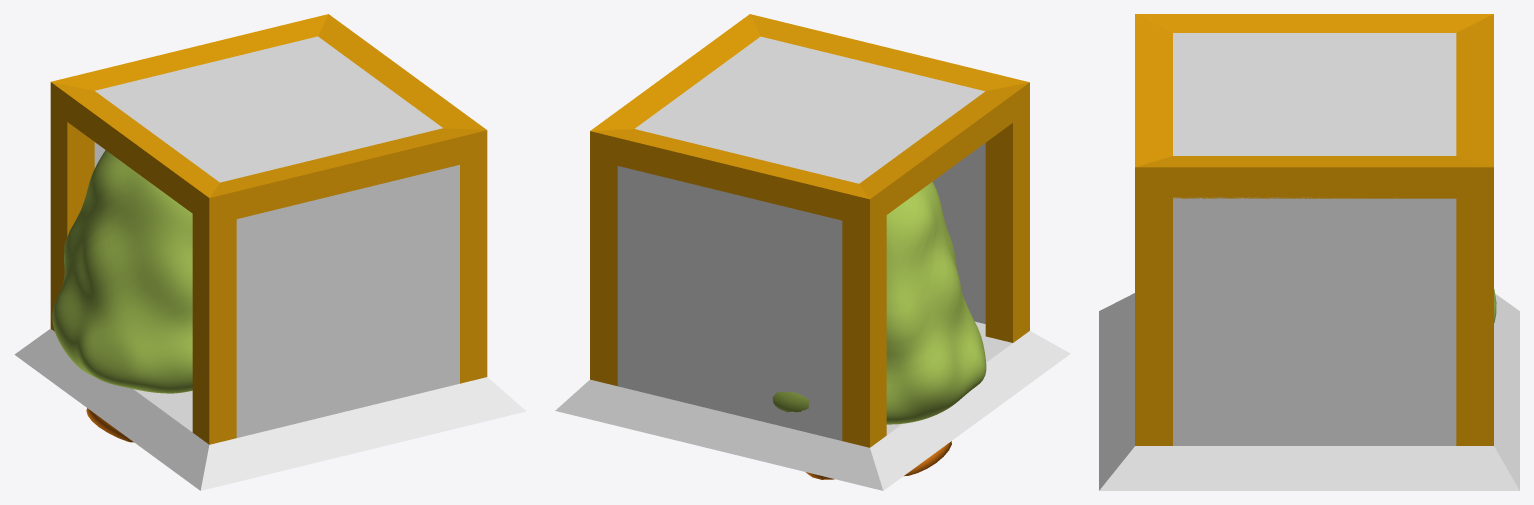
File: flora.fbx
3 views of the same model, side by side, from view 1: azimuth 30°, elevation 25°; view 2: azimuth 150°, elevation 25°; view 3: azimuth 270°, elevation 25° (orthographic). The views are drawn at different scales.
Parts seen in each view (by area): view 1: Plane.001, Plane.003, Plane.004, tree_1, Plane.120; view 2: Plane.003, Plane.001, Plane.004, Plane.120, tree_1; view 3: Plane.005, Plane.001, Plane.004, Plane.120.
Boxes of the visible parts, <box> form: Plane.001: <box>50,14,487,444</box>; Plane.003: <box>94,142,459,437</box>; Plane.004: <box>95,36,442,182</box>; tree_1: <box>52,150,192,442</box>; Plane.120: <box>14,328,526,490</box>; Plane.003: <box>617,143,985,440</box>; Plane.001: <box>590,14,1029,447</box>; Plane.004: <box>635,36,984,183</box>; Plane.120: <box>555,321,1070,490</box>; tree_1: <box>772,182,986,479</box>; Plane.005: <box>1173,197,1456,445</box>; Plane.001: <box>1135,14,1493,445</box>; Plane.004: <box>1173,33,1456,155</box>; Plane.120: <box>1099,293,1519,490</box>.
Size of the model in its own units: 1019 by 874 by 963.
